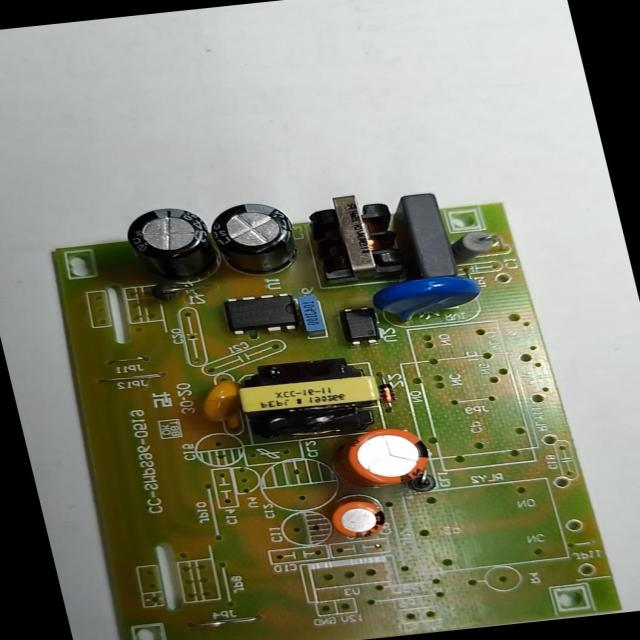Cap1: (340, 424, 439, 492)
Cap2: (326, 497, 392, 539)
Cap3: (202, 197, 304, 283)
Cap4: (120, 204, 223, 288)
MOSFET: (217, 288, 304, 339)
Mov: (362, 270, 493, 330)
Resistor: (450, 228, 502, 266)
Transformer: (234, 352, 391, 443), (298, 189, 408, 284)
